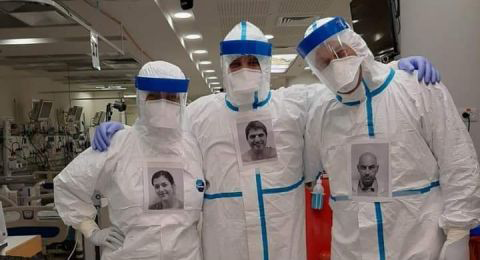Coverall: (298, 17, 463, 260), (67, 60, 200, 260), (194, 26, 307, 260)
Gloves: (395, 55, 442, 85), (88, 119, 128, 150), (83, 223, 126, 251)
Mask: (314, 54, 366, 93), (141, 97, 185, 132), (225, 67, 266, 102)
